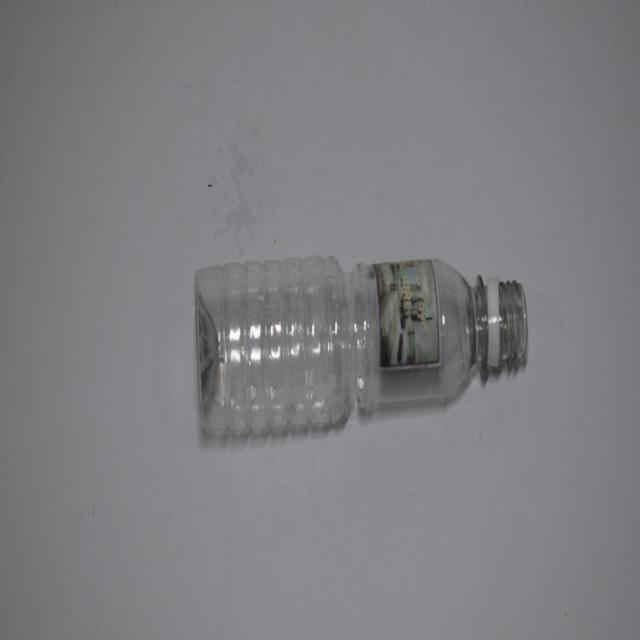empty: (195, 257, 527, 434)
